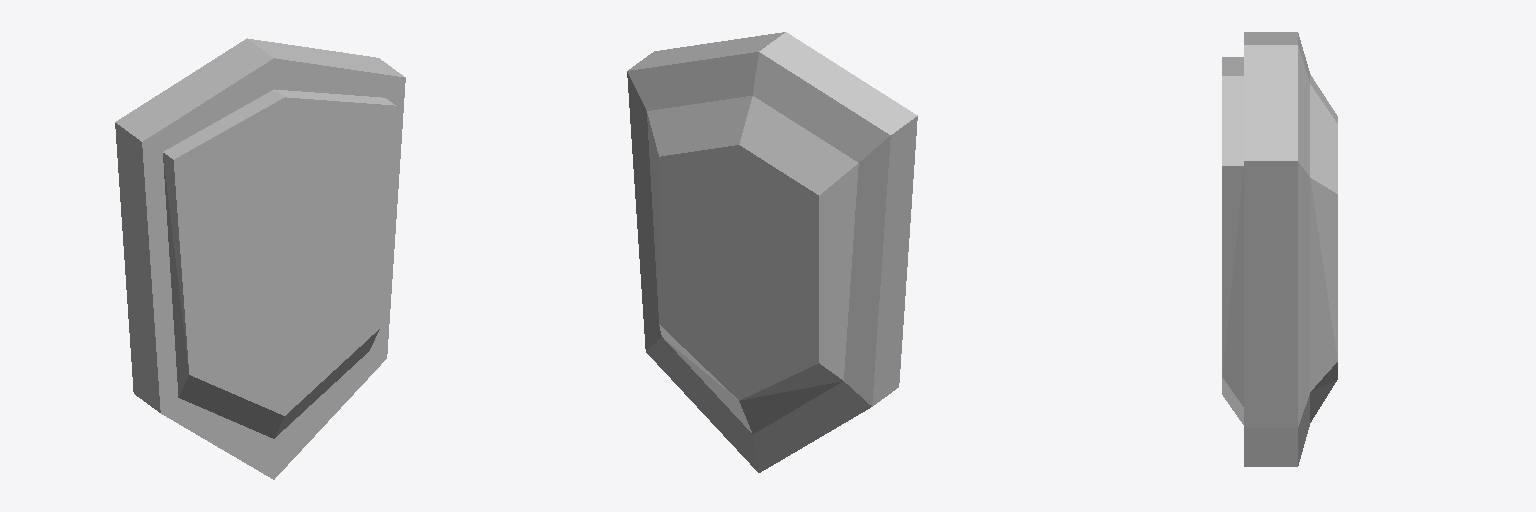
The model's file is Core.obj.
3 renders of one model, left to right at view 1: azimuth 30°, elevation 25°; view 2: azimuth 150°, elevation 25°; view 3: azimuth 270°, elevation 25°, orthographic.
Parts seen in each view (by area): view 1: Core_body; view 2: Core_body; view 3: Core_body.
Boxes of the visible parts, <box> form: Core_body: <box>115,38,405,479</box>; Core_body: <box>627,32,917,472</box>; Core_body: <box>1222,32,1337,466</box>.
Bounding box in the file's own units: 2 × 3.06 × 0.7567.